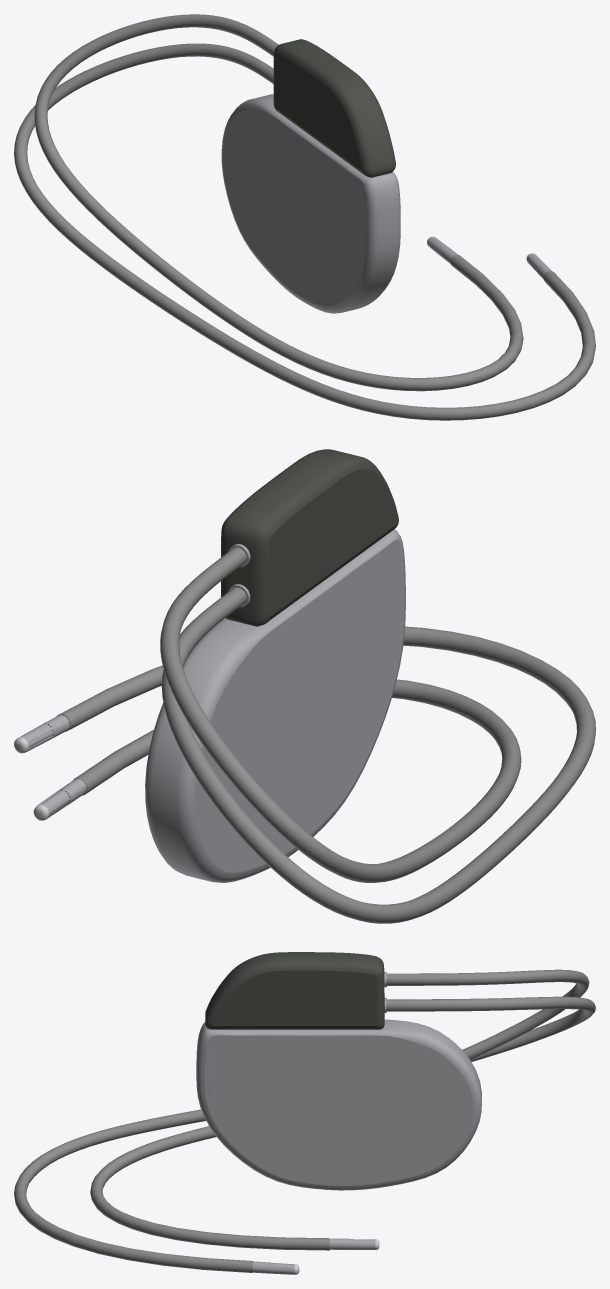
Rendered from pacemaker.glb.
3 views of the same model, one above another, from view 1: azimuth 30°, elevation 25°; view 2: azimuth 150°, elevation 25°; view 3: azimuth 270°, elevation 25° (orthographic). The views are drawn at different scales.
Visible parts, largest first — view 1: PaceMaker; view 2: PaceMaker; view 3: PaceMaker.
Boxes of the visible parts, x1,y1,x2,y2 form: PaceMaker: (14, 14, 595, 420); PaceMaker: (14, 449, 595, 923); PaceMaker: (14, 952, 595, 1274).
Bounding box in the file's own units: 0.4402 × 0.2689 × 0.6185.
1 material, 1 textured.
